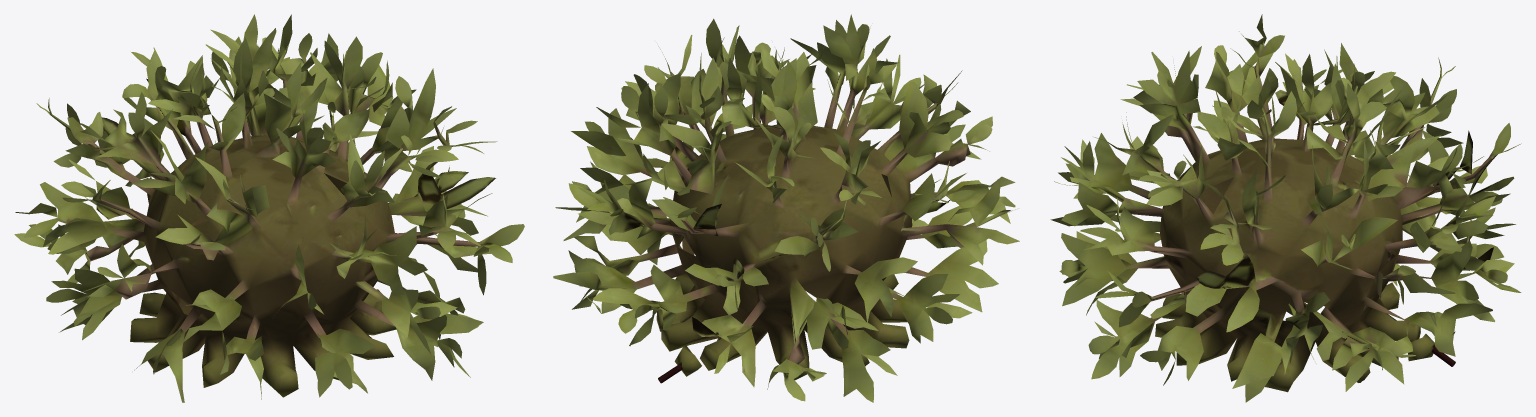
3 views of the same model, side by side, from view 1: azimuth 30°, elevation 25°; view 2: azimuth 150°, elevation 25°; view 3: azimuth 270°, elevation 25° (orthographic). The views are drawn at different scales.
Bounding box in the file's own units: 0.9937 × 0.6919 × 0.9995.
1 material, 1 textured.
